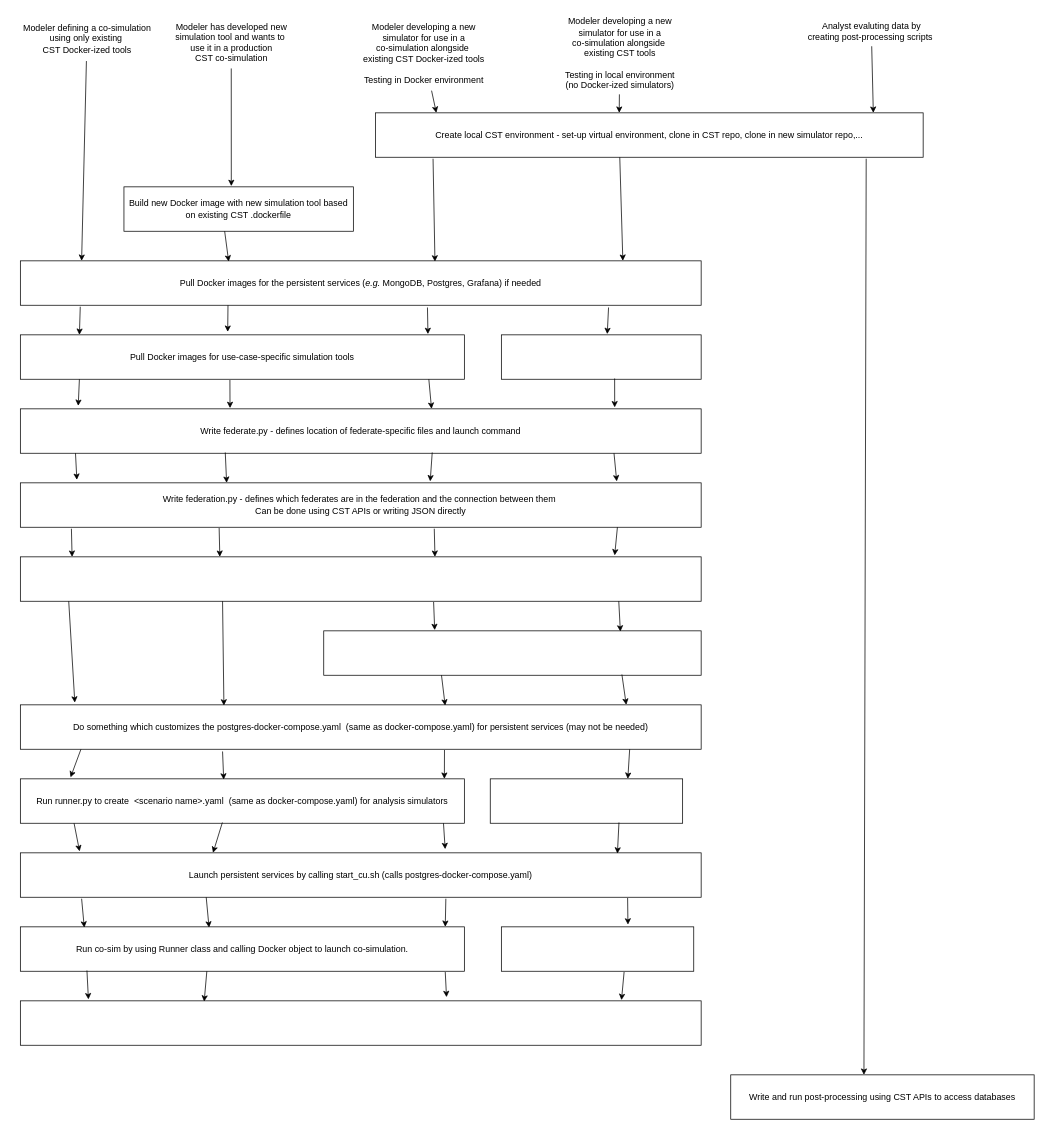
This 1047x1132 diagram has some shape labels left out. Here are the shapes that lost their labels. From the top down, the centre of each, then its label:
pixel 601 356: Install simulation tools locally (no simulators in Docker)
pixel 360 578: Write Grafana monitoring definintion
pixel 512 652: Write new simulator (in Python) in local environment
pixel 586 800: Create runner.sh to define federation to launch
pixel 597 948: Run runner.sh to launch co-simulation
pixel 360 1022: Monitor cosimulation by loading defined Grafana configuration
